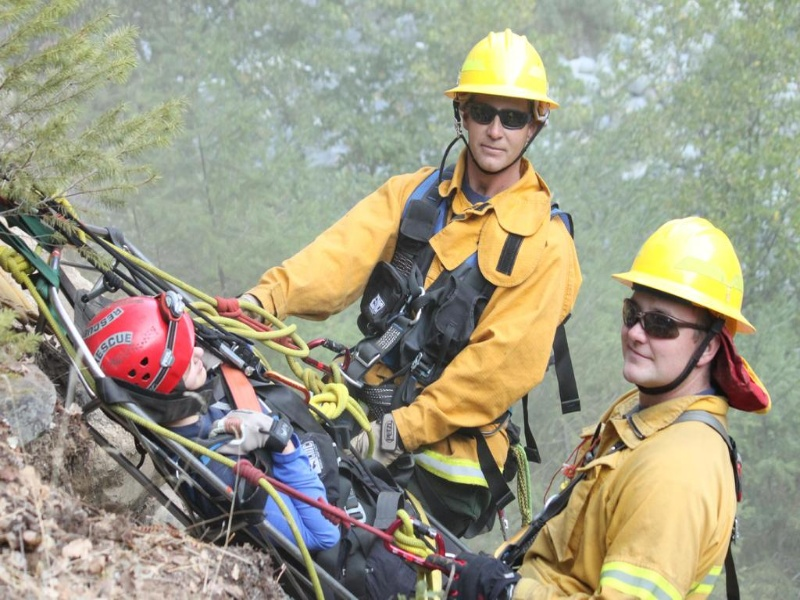Baret: (617, 214, 748, 316), (445, 28, 558, 105)
